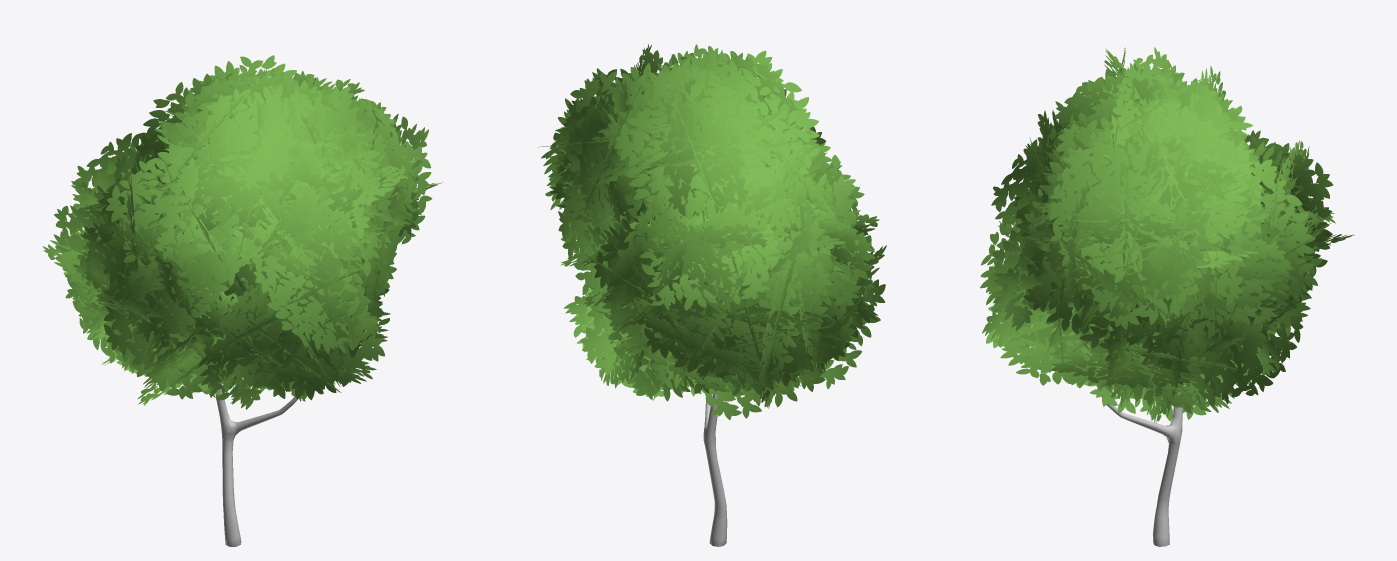
The model's file is SM_Nature_Tree_03.fbx.
The picture shows the model from 3 angles, left to right: view 1: azimuth 30°, elevation 25°; view 2: azimuth 150°, elevation 25°; view 3: azimuth 270°, elevation 25°; orthographic projection. The views are drawn at different scales.
Parts seen in each view (by area): view 1: Tree_03_LOD0; view 2: Tree_03_LOD0; view 3: Tree_03_LOD0.
Part boxes in pixels (box(x1,y1,x2,y2)): Tree_03_LOD0: box(42, 55, 442, 546); Tree_03_LOD0: box(538, 44, 886, 546); Tree_03_LOD0: box(980, 47, 1354, 546).
Bounding box in the file's own units: 646 × 805 × 619.
